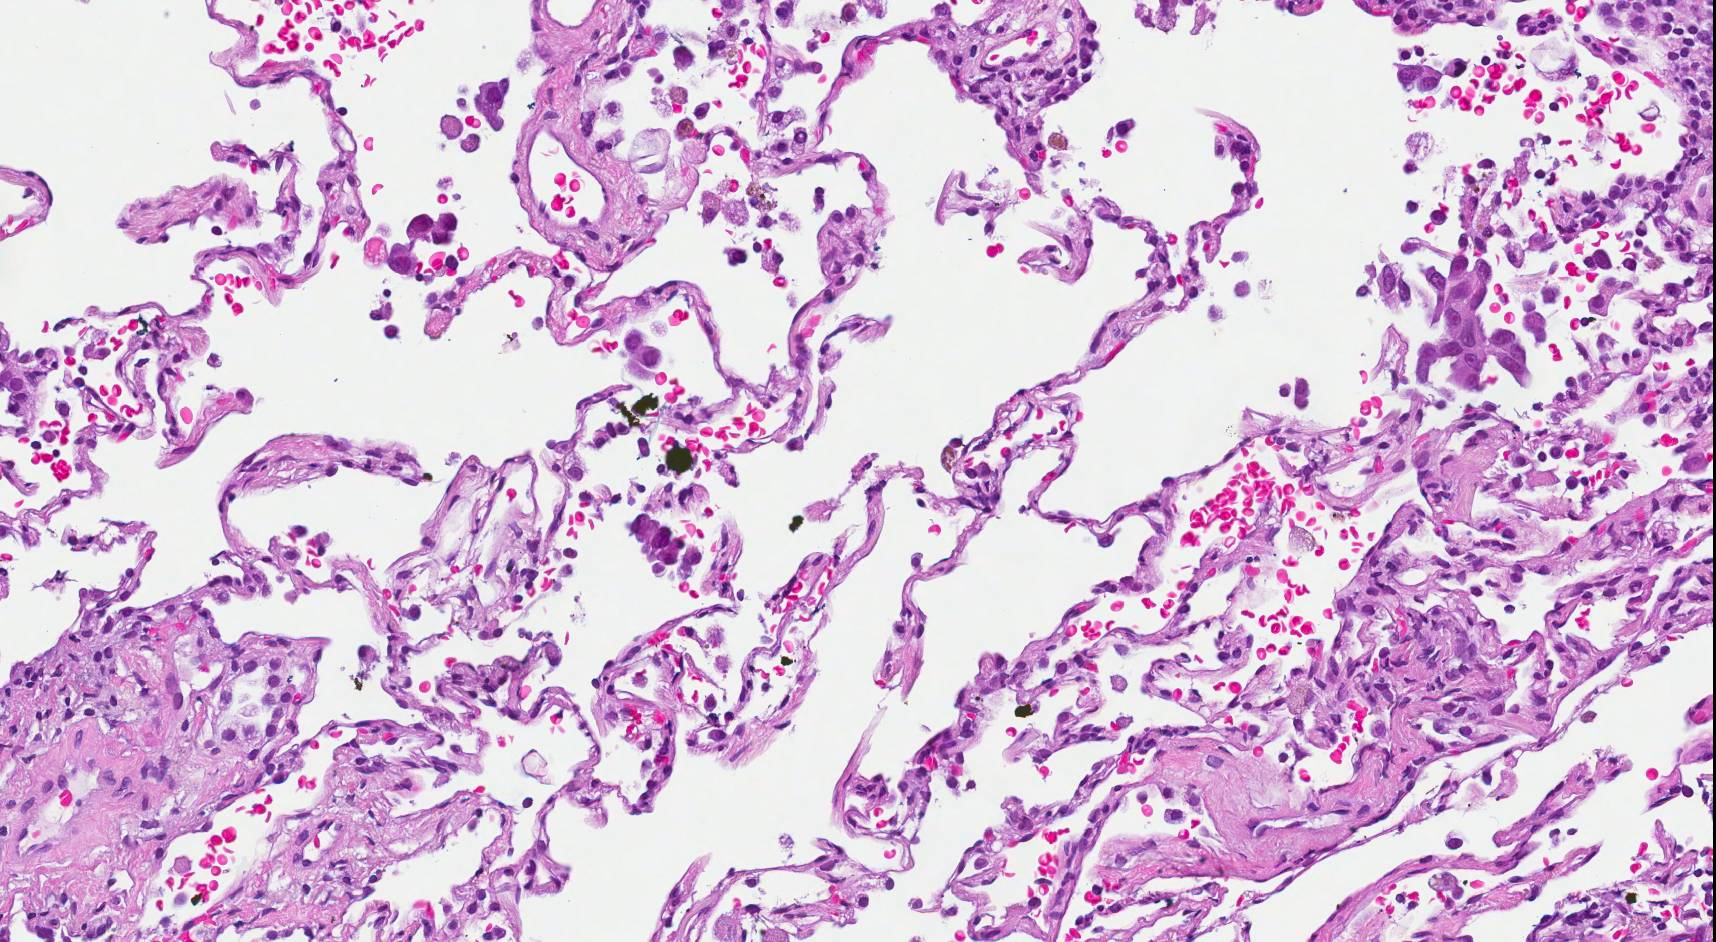stas: (1412, 245, 1536, 395), (623, 505, 706, 584), (386, 211, 458, 278), (618, 323, 668, 384), (471, 72, 514, 135), (1394, 58, 1445, 94)
